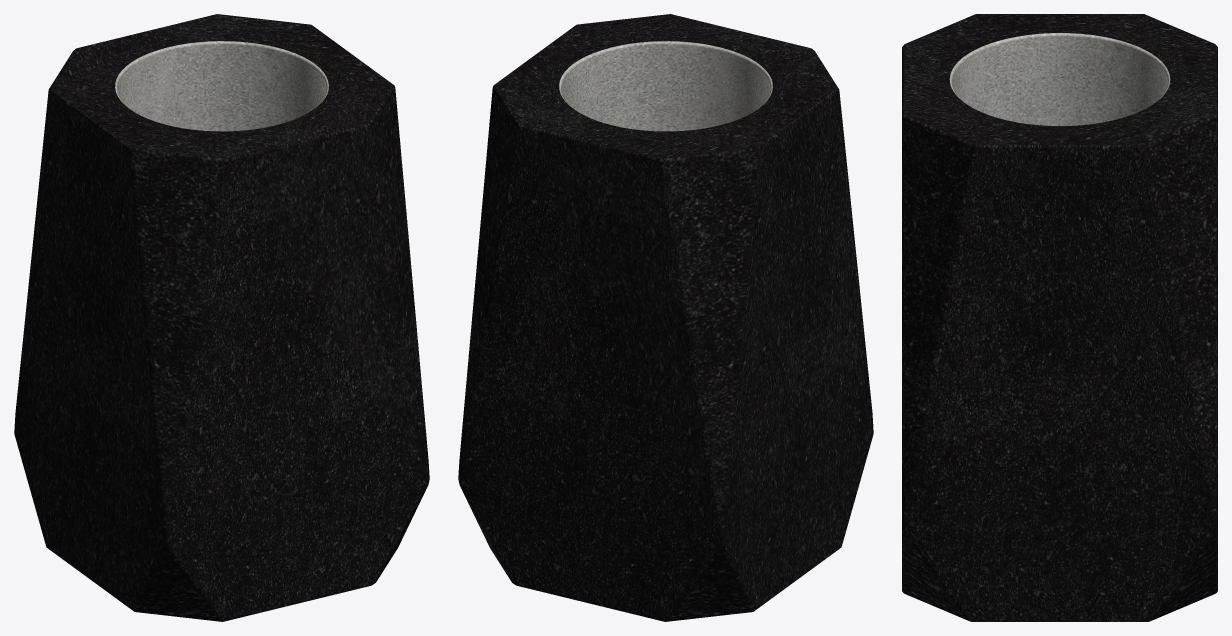
The model's file is Vase 3.glb.
3 renders of one model, left to right at view 1: azimuth 30°, elevation 25°; view 2: azimuth 150°, elevation 25°; view 3: azimuth 270°, elevation 25°, orthographic. The views are drawn at different scales.
Parts seen in each view (by area): view 1: Cube.045; view 2: Cube.045; view 3: Cube.045.
Boxes of the visible parts, x1,y1,x2,y2 form: Cube.045: (14, 14, 429, 621); Cube.045: (458, 14, 873, 621); Cube.045: (902, 14, 1217, 621).
Bounding box in the file's own units: 0.15 × 0.25 × 0.15.
Materials: 2 (2 with a texture image).
